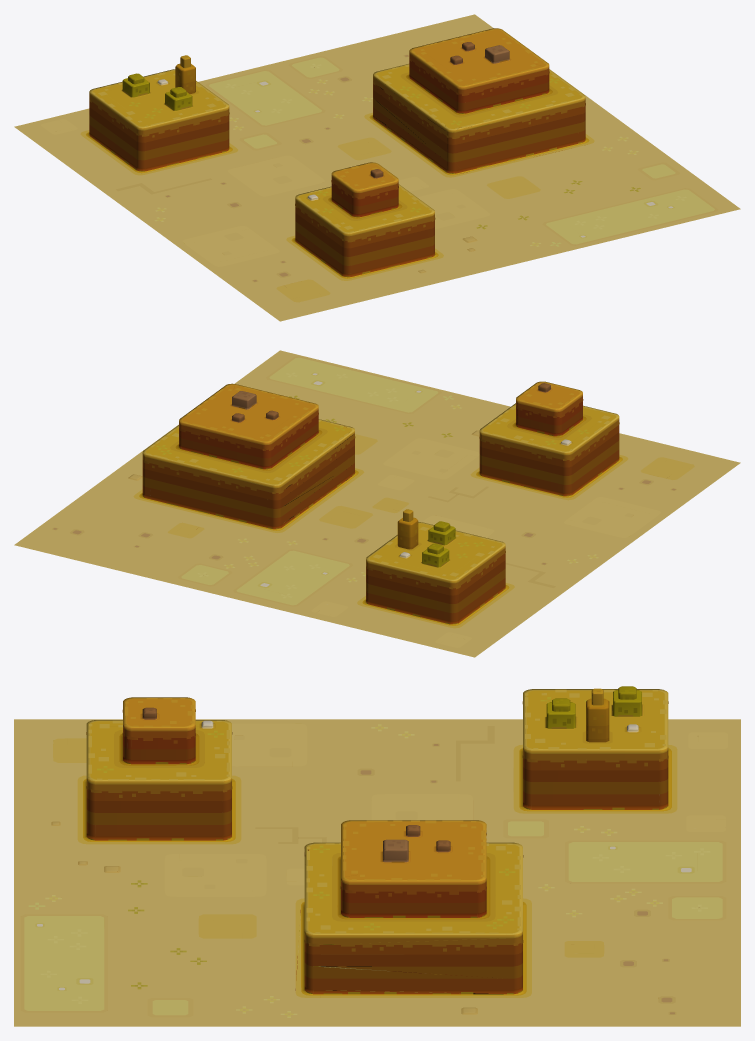
Rendered from C_mountain1_07.fbx.
The picture shows the model from 3 angles, top to bottom: view 1: azimuth 30°, elevation 25°; view 2: azimuth 150°, elevation 25°; view 3: azimuth 270°, elevation 25°; orthographic projection. The views are drawn at different scales.
Parts seen in each view (by area): view 1: C_mountain1_07; view 2: C_mountain1_07; view 3: C_mountain1_07.
Part boxes in pixels (box(x1,y1,x2,y2)): C_mountain1_07: box(14, 14, 740, 321); C_mountain1_07: box(14, 350, 740, 657); C_mountain1_07: box(14, 686, 740, 1026).
Size of the model in its own units: 50 by 8.59 by 50.
1 material, 1 textured.
